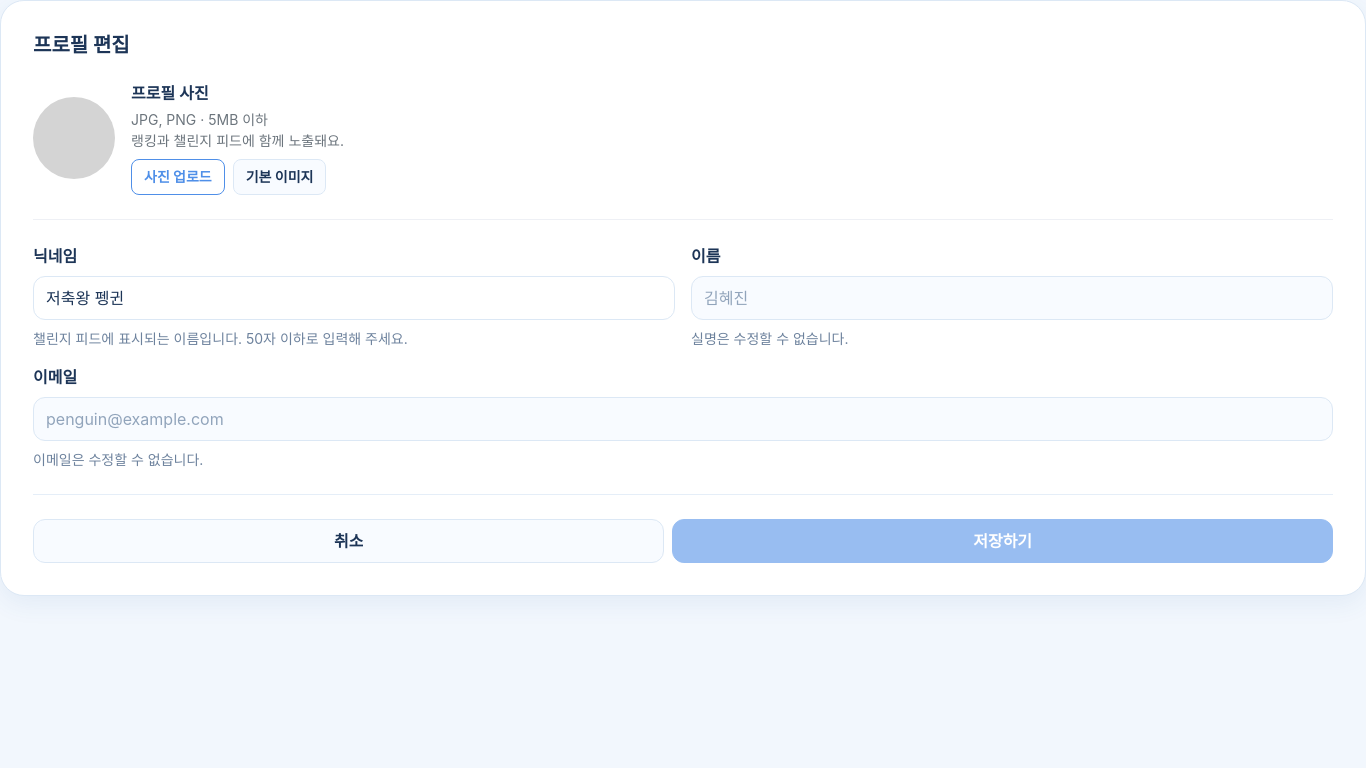
it: ProfileSettingsView › shows a shared validation alert without saving an empty nickname
Clear the field labelled "닉네임". click: [354, 298]
box: [33,276,675,320]
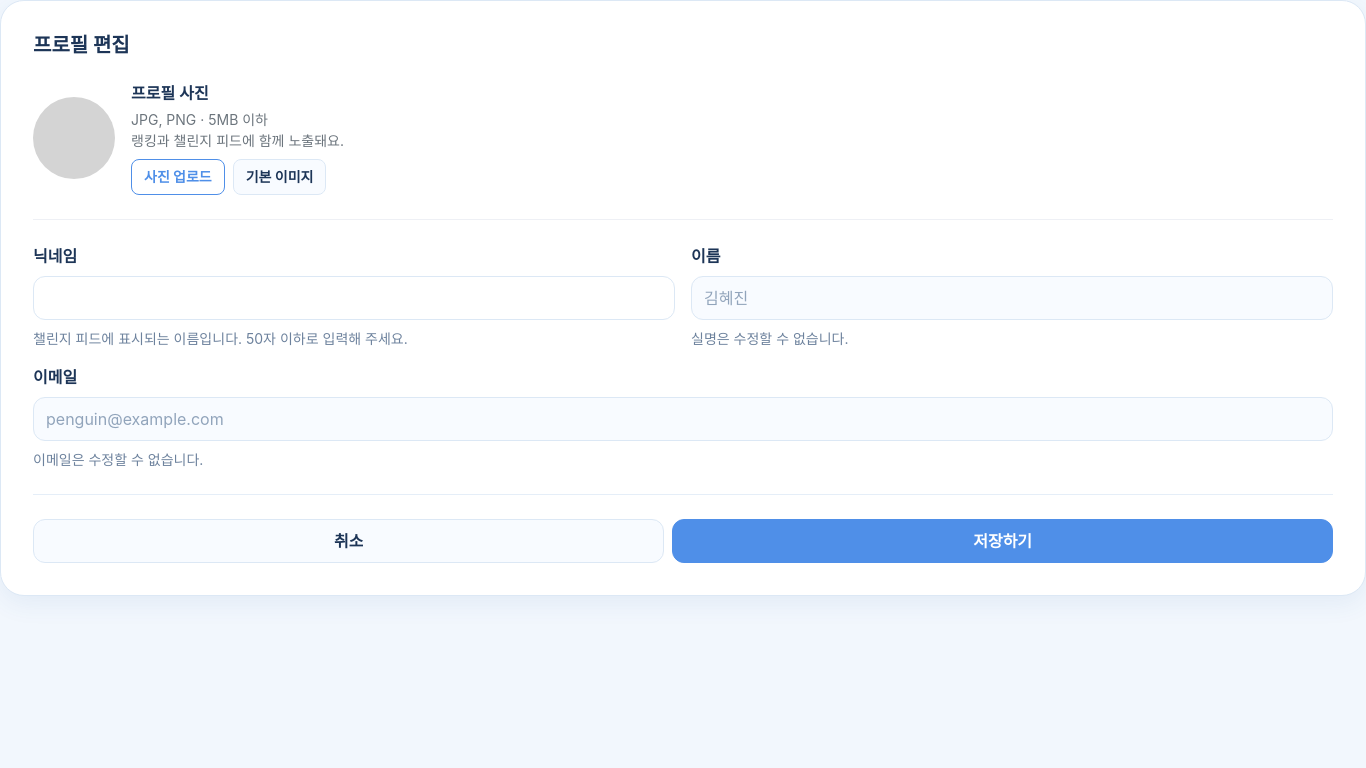
Submit the form, box [33,228,1333,563]
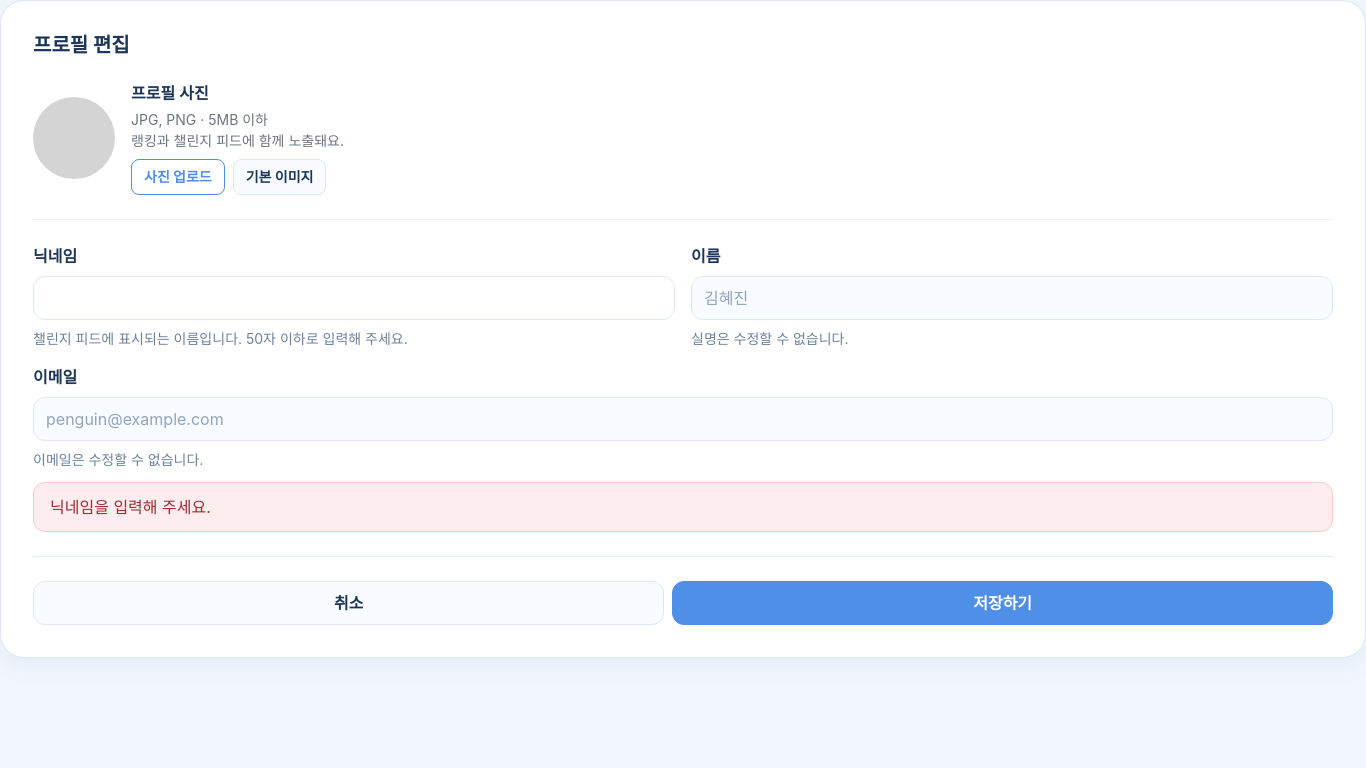
Expected: the message "닉네임을 입력해 주세요." is shown, [33,482,1333,532]
